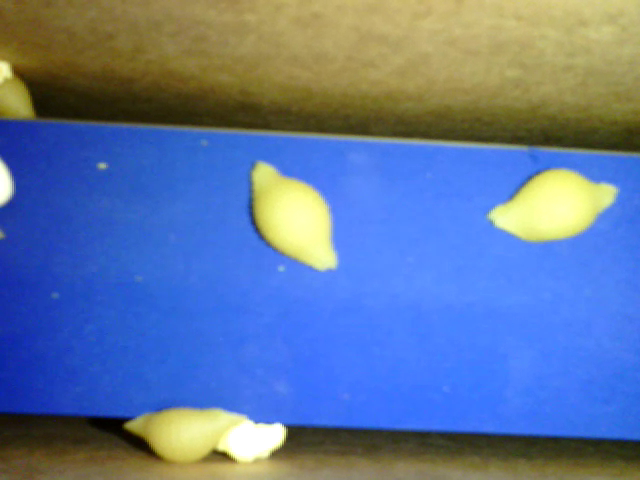shell: (250, 160, 339, 272), (488, 168, 617, 245), (126, 404, 250, 464)
